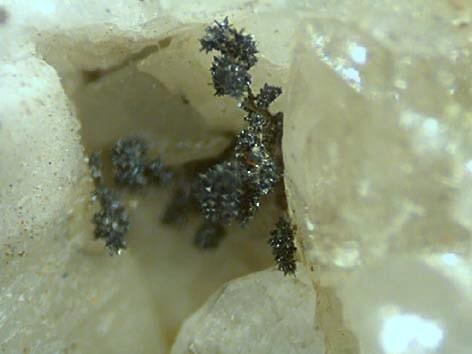silver: (190, 18, 284, 250), (97, 136, 173, 257), (267, 211, 297, 276)
